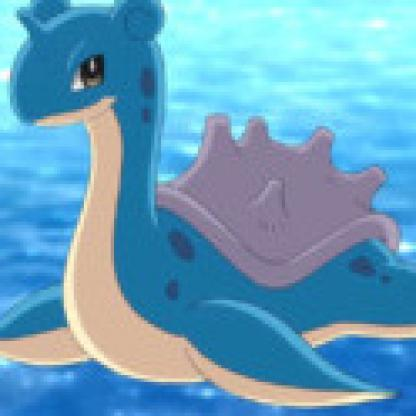Lapras: (1, 1, 414, 404)
